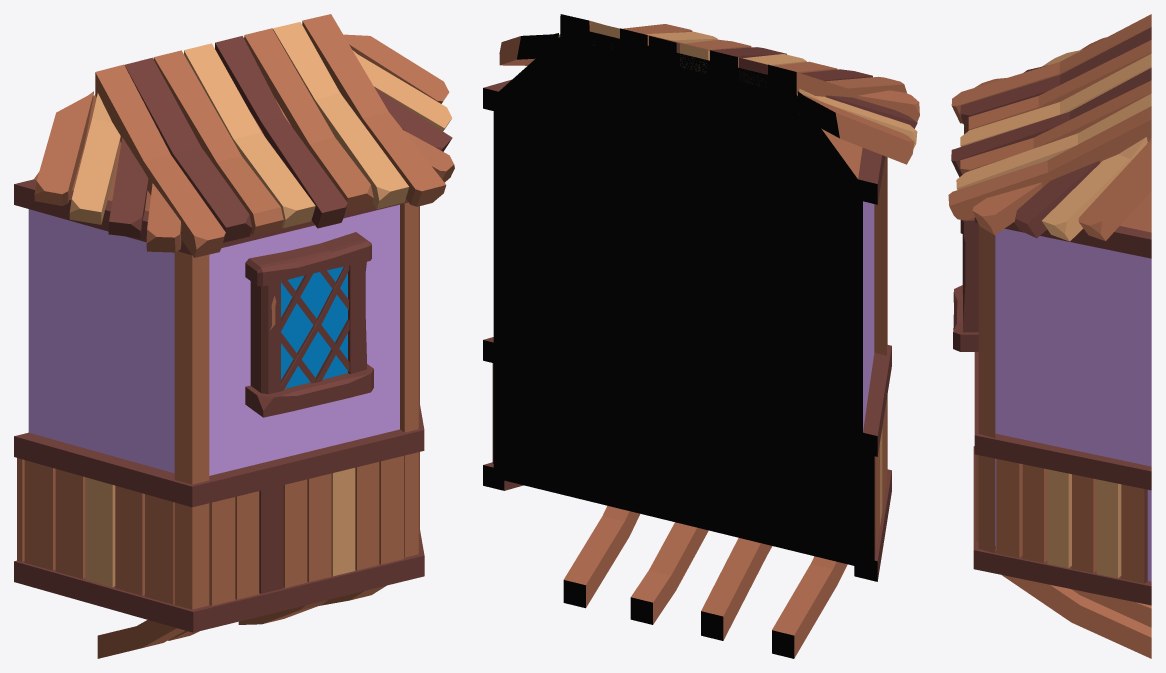
The model's file is Building Addon 04.fbx.
3 views of the same model, side by side, from view 1: azimuth 30°, elevation 25°; view 2: azimuth 150°, elevation 25°; view 3: azimuth 270°, elevation 25° (orthographic). The views are drawn at different scales.
Visible parts, largest first — view 1: Building Addon 04; view 2: Building Addon 04; view 3: Building Addon 04.
Boxes of the visible parts, x1,y1,x2,y2 form: Building Addon 04: (14, 14, 454, 658); Building Addon 04: (483, 14, 919, 658); Building Addon 04: (948, 14, 1151, 658).
Bounding box in the file's own units: 502 × 683 × 232.
